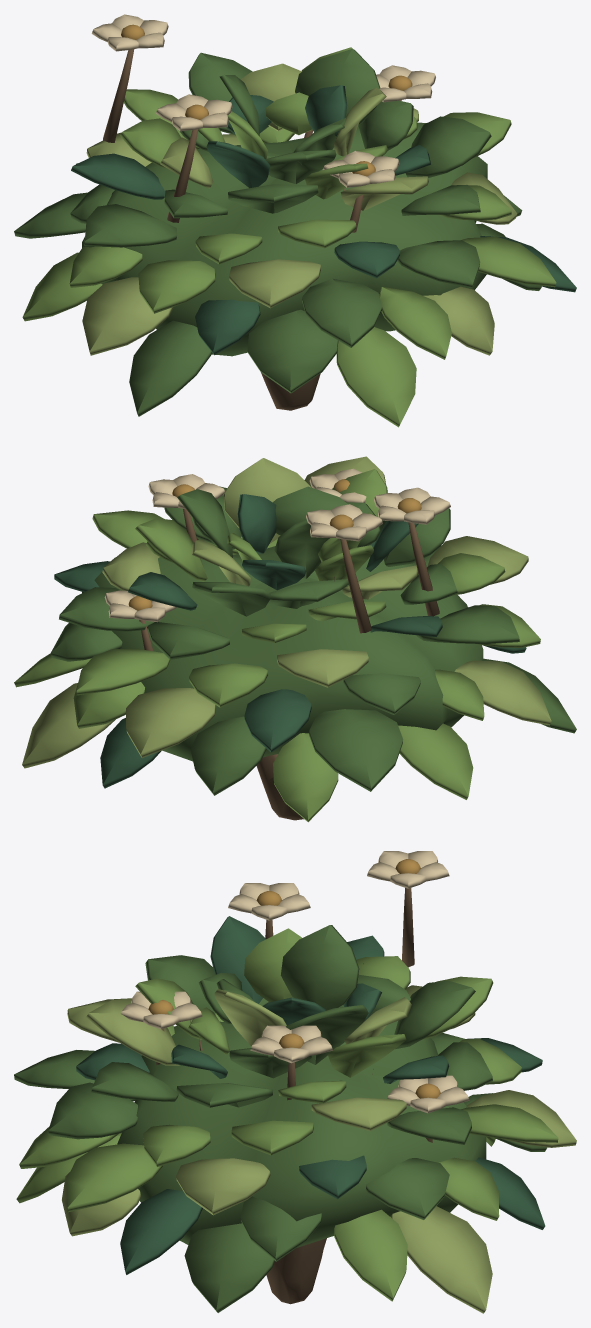
The model's file is garden_bush_atelier.glb.
The picture shows the model from 3 angles, top to bottom: view 1: azimuth 30°, elevation 25°; view 2: azimuth 150°, elevation 25°; view 3: azimuth 270°, elevation 25°; orthographic projection. The views are drawn at different scales.
Visible parts, largest first — view 1: garden_bush_atelier__TaggedPainted_Bush_Matte; view 2: garden_bush_atelier__TaggedPainted_Bush_Matte; view 3: garden_bush_atelier__TaggedPainted_Bush_Matte.
Part boxes in pixels (left/top/right/bottom): garden_bush_atelier__TaggedPainted_Bush_Matte: left=14, top=14, right=576, bottom=427; garden_bush_atelier__TaggedPainted_Bush_Matte: left=14, top=456, right=576, bottom=822; garden_bush_atelier__TaggedPainted_Bush_Matte: left=14, top=851, right=576, bottom=1313.
Bounding box in the file's own units: 1.15 × 0.876 × 1.16.
